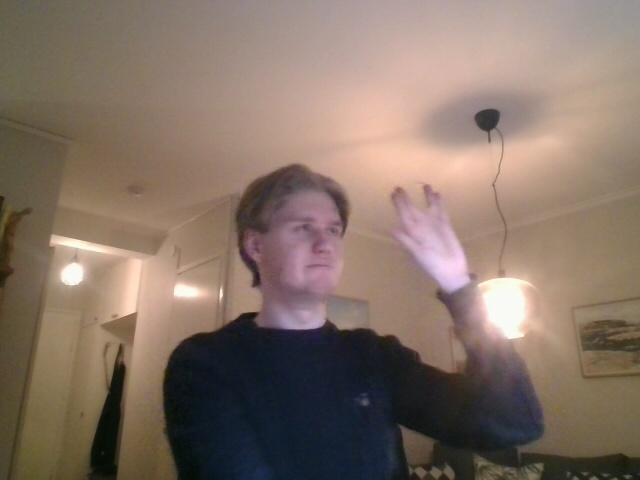LiveLong: (387, 183, 468, 280)
